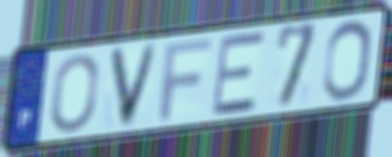7: (275, 22, 319, 113)
E: (210, 28, 267, 119)
F: (157, 35, 215, 123)
O: (320, 17, 373, 103), (48, 51, 101, 136)
V: (107, 39, 162, 131)
